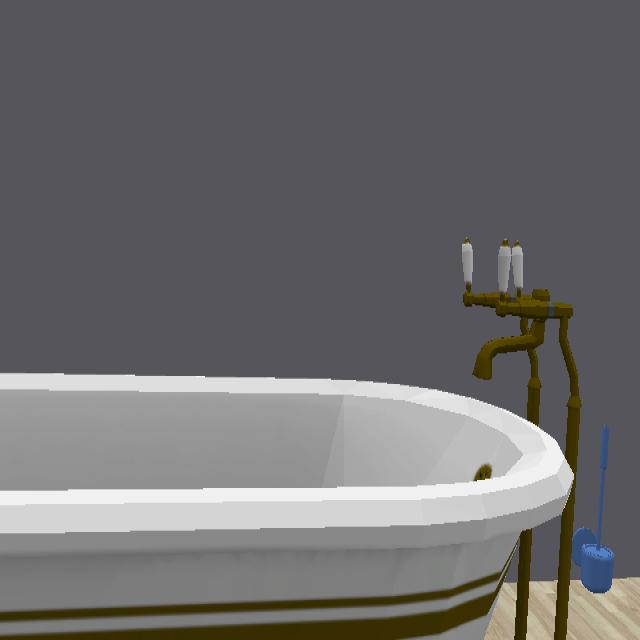bathtube: (0, 243, 582, 640)
